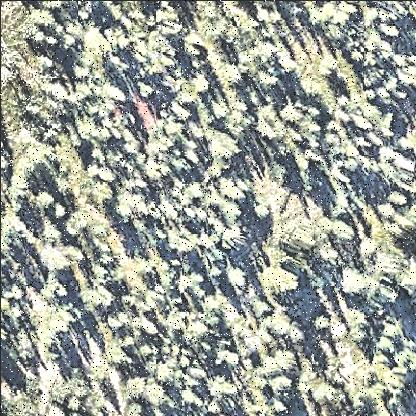tree-top: (257, 263, 300, 302), (306, 1, 358, 28), (203, 132, 241, 168), (207, 368, 243, 404), (21, 7, 59, 41), (277, 221, 315, 253), (390, 49, 416, 93), (338, 267, 371, 301), (174, 268, 208, 300), (310, 382, 346, 411), (40, 269, 71, 302), (39, 250, 74, 279), (4, 390, 42, 416), (140, 380, 172, 410), (88, 181, 118, 212), (210, 345, 244, 372), (261, 311, 291, 341), (373, 193, 405, 221), (157, 2, 183, 36), (265, 374, 295, 401), (105, 346, 135, 372), (88, 286, 115, 313), (328, 219, 355, 246), (220, 64, 246, 92), (38, 223, 66, 249), (38, 194, 67, 219), (253, 69, 282, 93), (220, 201, 245, 227), (31, 191, 58, 214), (371, 202, 398, 225), (382, 190, 410, 212), (224, 267, 250, 290), (245, 298, 271, 321), (165, 231, 188, 257), (252, 201, 275, 225), (309, 315, 333, 337), (190, 77, 214, 99), (89, 369, 113, 391), (319, 60, 341, 83), (48, 202, 70, 223), (171, 103, 193, 124), (137, 80, 158, 100), (96, 252, 117, 271), (33, 2, 63, 15), (65, 398, 85, 416), (2, 153, 14, 178), (124, 403, 146, 416)
